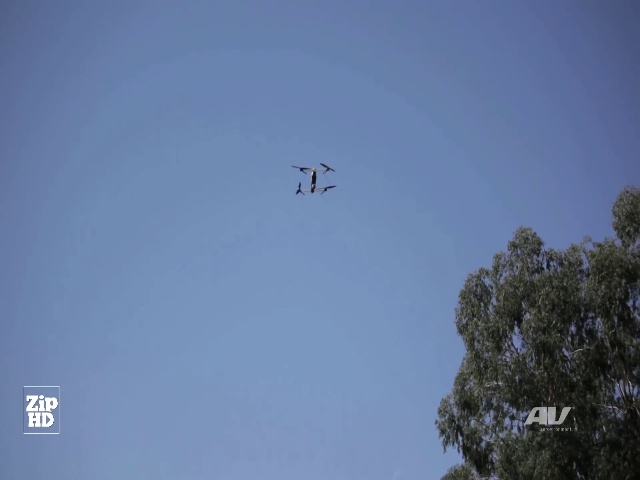drone: (288, 161, 340, 198)
